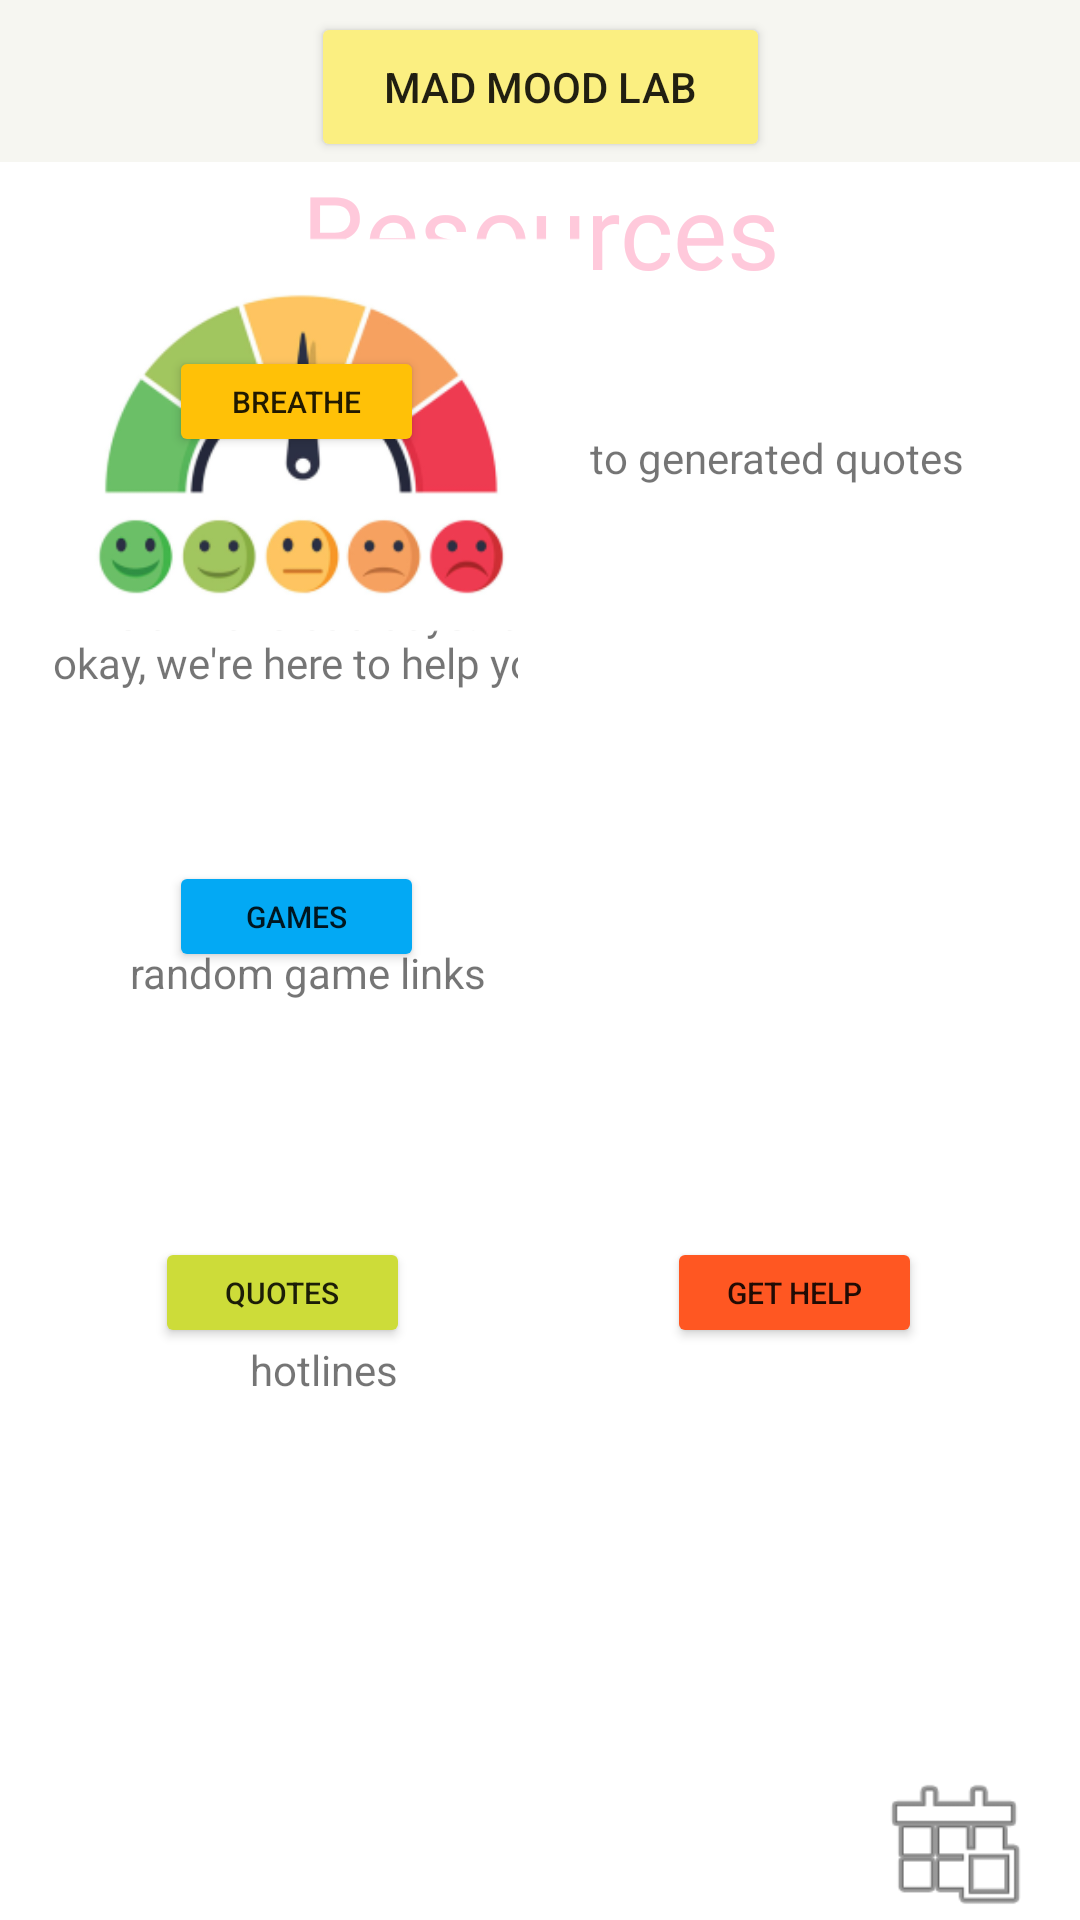

Locate icon controls on the screen. Image size 1080*1920, boxes as [x1=x1, y1=y1, x2=x2, y2=y2].
today: [x1=892, y1=1785, x2=1020, y2=1904]
